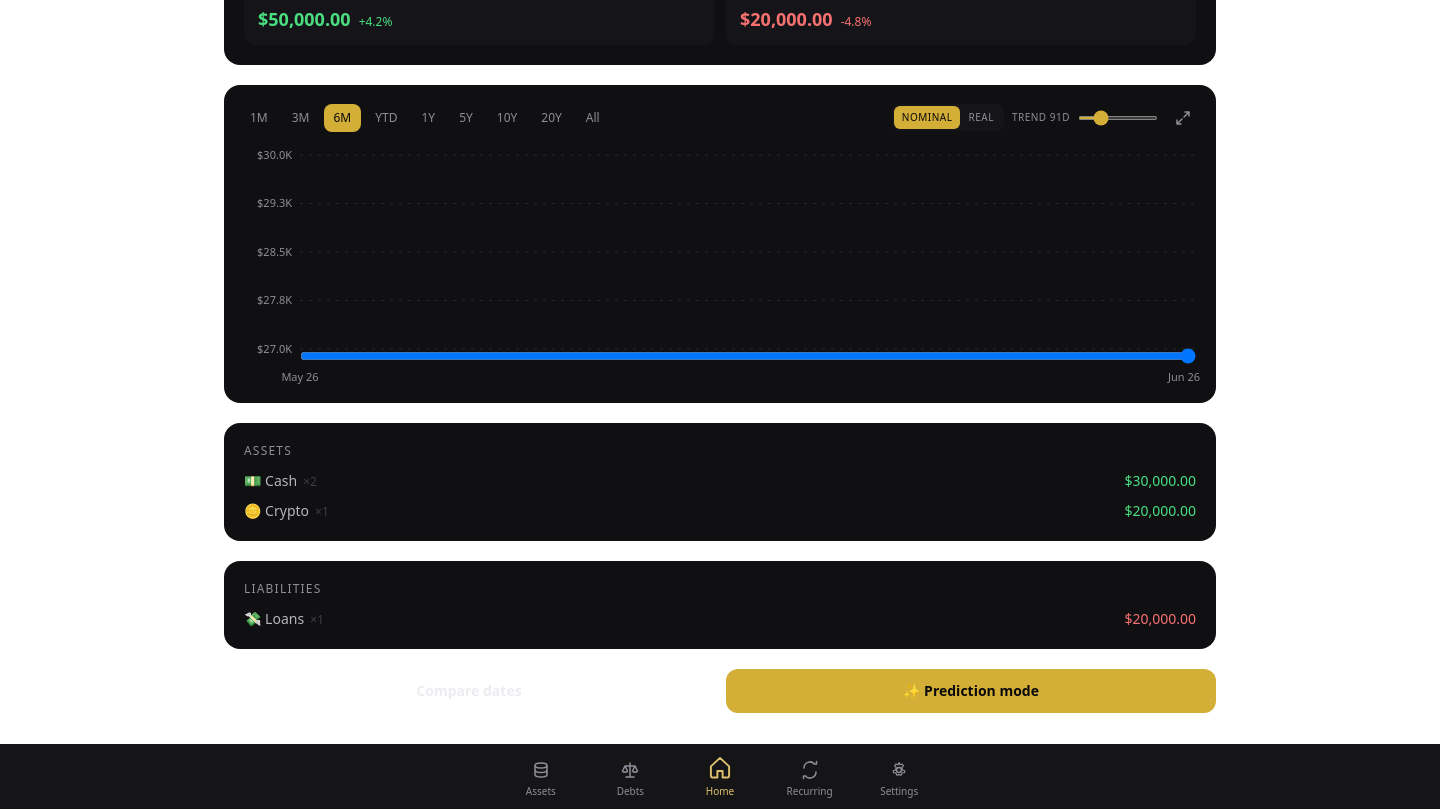
it: dashboard › prediction mode updates every surrounding number, not just the chart
(page scrolled)
Click the button "✨ Prediction mode".
click(971, 690)  # box [726,668,1216,712]
(page scrolled)
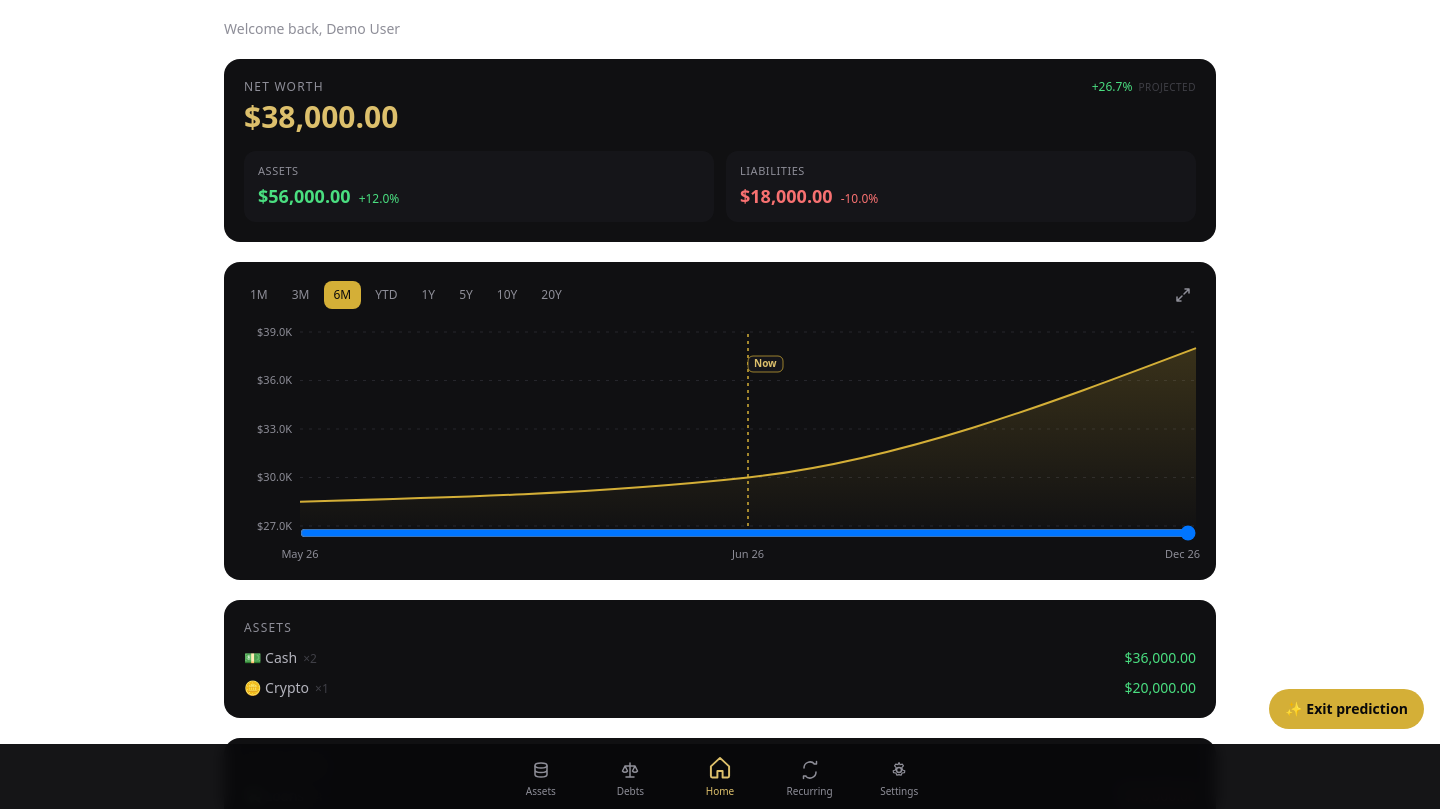
Now the text "$38,000.00" is shown, box [244,96,398,137]
Now the text "$56,000.00 +12.0%" is shown, box [258,184,399,208]
Now the text "+26.7%" is shown, box [1092,79,1132,95]
